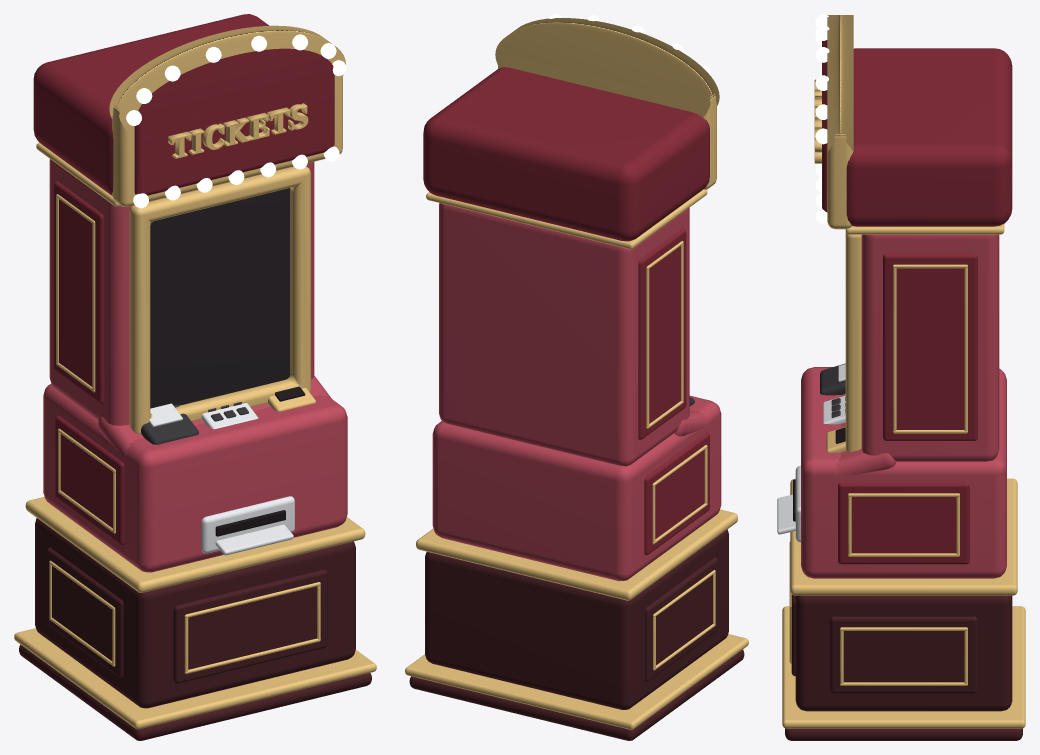
File: kiosk.glb
The picture shows the model from 3 angles, left to right: view 1: azimuth 30°, elevation 25°; view 2: azimuth 150°, elevation 25°; view 3: azimuth 270°, elevation 25°; orthographic projection. The views are drawn at different scales.
Parts seen in each view (by area): view 1: kiosk; view 2: kiosk; view 3: kiosk.
Part boxes in pixels (x1,y1,x2,y2): kiosk: (14,14,376,740); kiosk: (405,14,748,740); kiosk: (777,14,1025,740).
Bounding box in the file's own units: 1.04 × 2.71 × 0.939.
